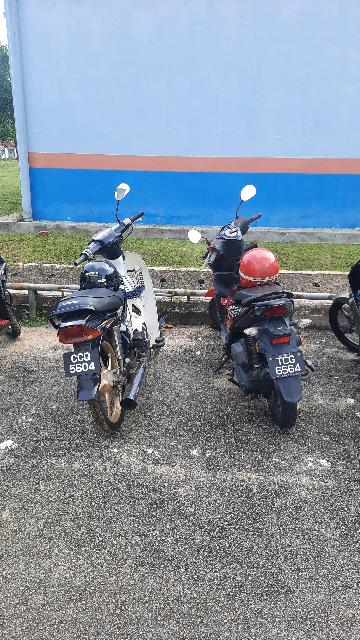License_Plate: (267, 352, 313, 380), (64, 349, 102, 379)
motorcycle: (185, 183, 319, 430), (51, 178, 170, 437)
